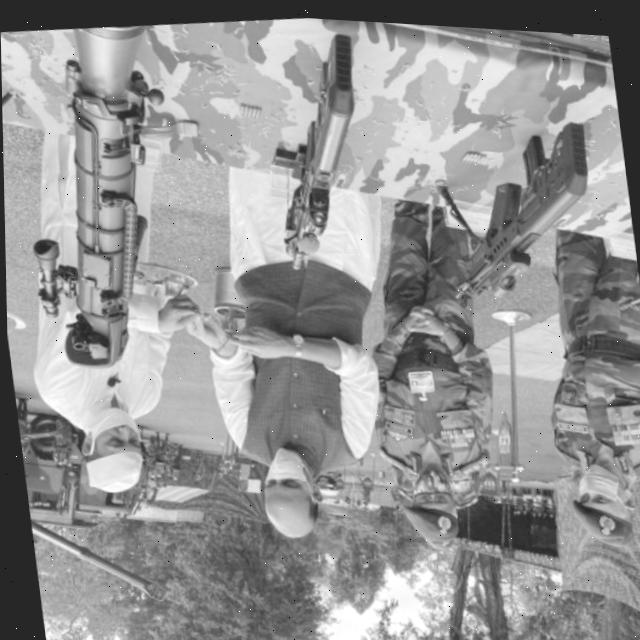rocket: (0, 11, 235, 389)
